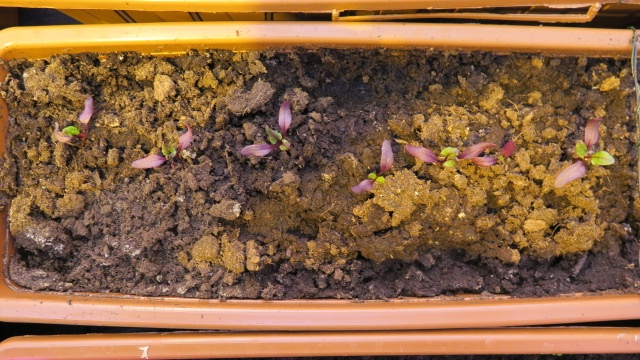crop: (549, 117, 620, 190), (236, 98, 296, 158), (127, 120, 197, 171), (346, 136, 393, 195), (48, 93, 98, 145)
